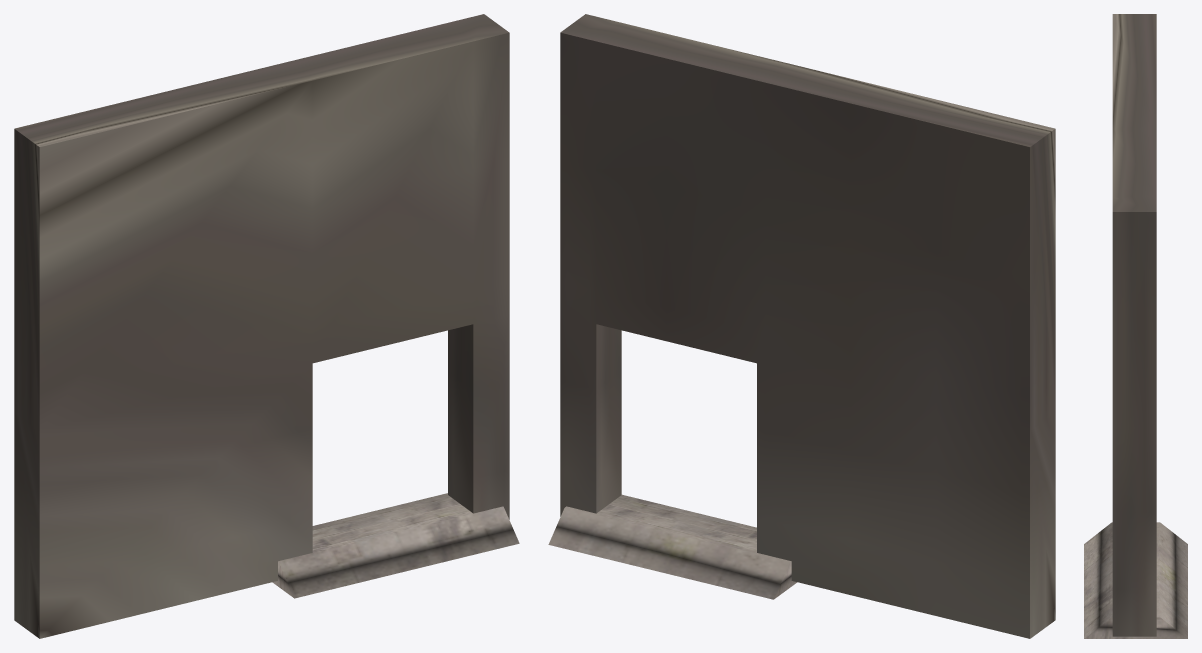
File: stair_wall_single_bottom.glb
The picture shows the model from 3 angles, left to right: view 1: azimuth 30°, elevation 25°; view 2: azimuth 150°, elevation 25°; view 3: azimuth 270°, elevation 25°; orthographic projection. The views are drawn at different scales.
Visible parts, largest first — view 1: stair_wall_single_bottom; view 2: stair_wall_single_bottom; view 3: stair_wall_single_bottom.
Part boxes in pixels (box(x1,y1,x2,y2)): stair_wall_single_bottom: box(14, 14, 519, 638); stair_wall_single_bottom: box(548, 14, 1055, 638); stair_wall_single_bottom: box(1084, 14, 1187, 638).
Size of the model in its own units: 8 by 8.09 by 1.77.
Materials: 2 (2 with a texture image).
